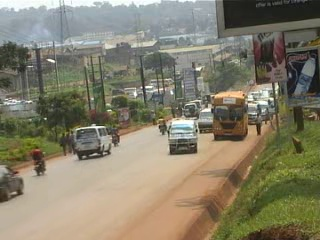Car: (0, 161, 27, 202), (180, 102, 200, 118)
Motorcycle: (28, 150, 49, 176), (156, 116, 169, 135), (108, 128, 121, 146)
